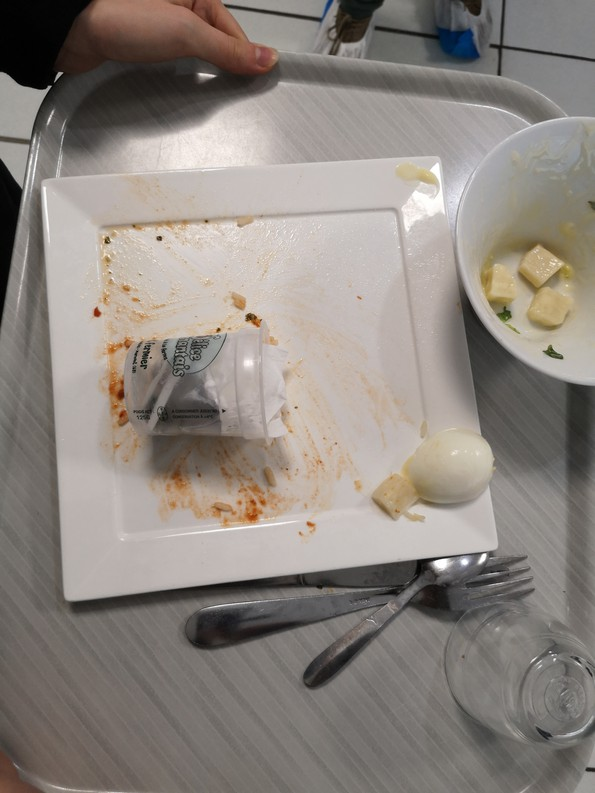cup: (439, 598, 595, 764)
cutlery: (179, 531, 545, 703)
orga: (357, 421, 504, 526), (480, 233, 569, 328)
trash: (129, 334, 302, 449)
